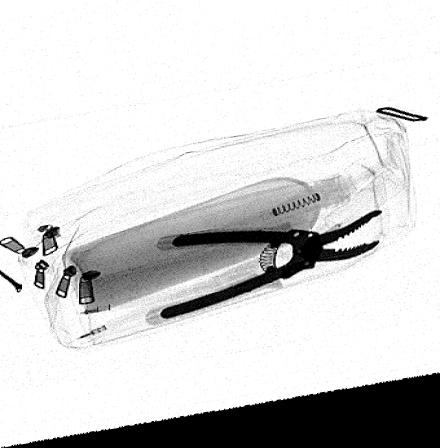Pliers: (158, 220, 384, 326)
